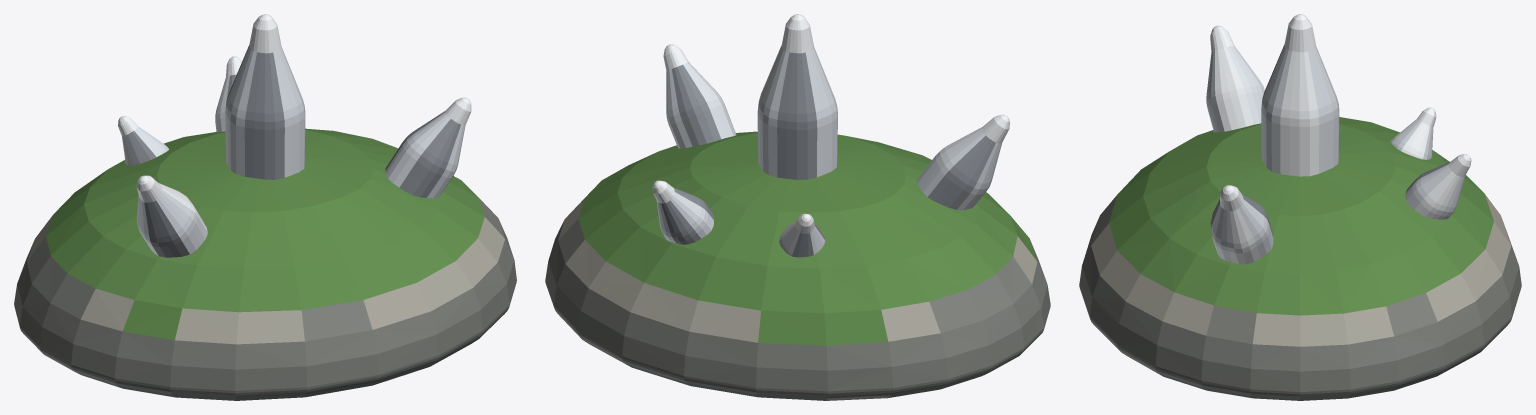
Rendered from OreVein2.obj.
3 renders of one model, left to right at view 1: azimuth 30°, elevation 25°; view 2: azimuth 150°, elevation 25°; view 3: azimuth 270°, elevation 25°, orthographic. The views are drawn at different scales.
Size of the model in its own units: 4.58 by 3.15 by 4.
